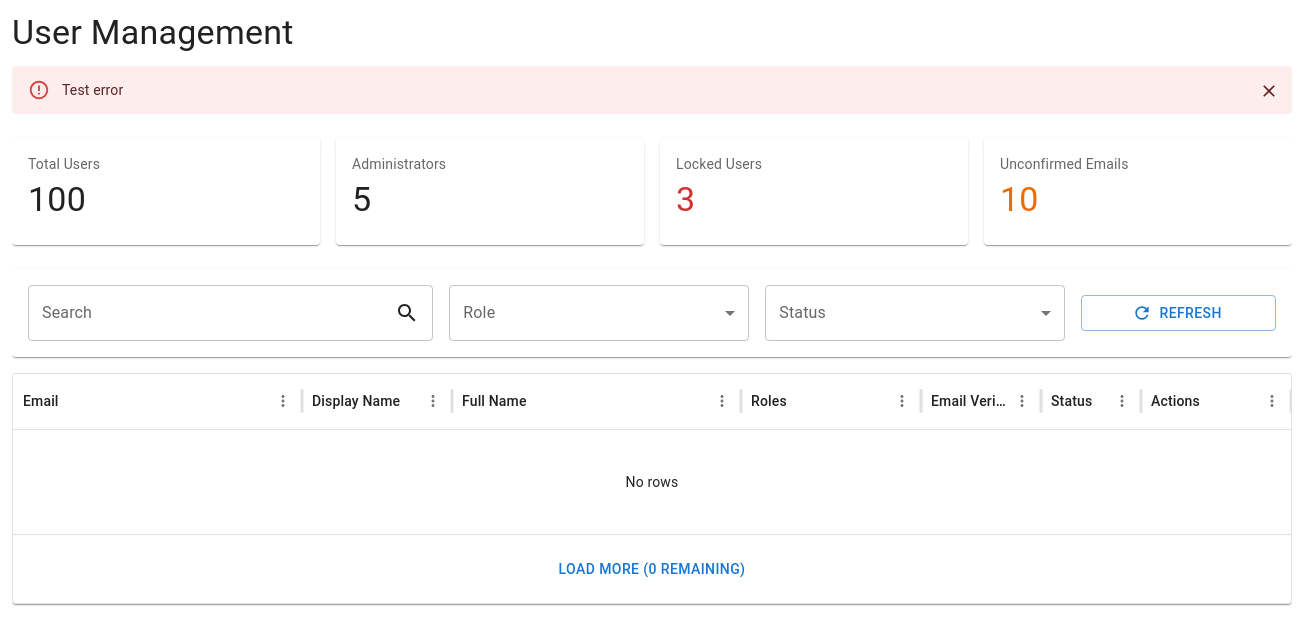
Test: UserListPage › Error Handling › should allow closing error alert
Expected: the message "Test error" is shown, [12,66,1292,114]
Click the button named "close" at (1269, 91), box [1254,76,1284,106]
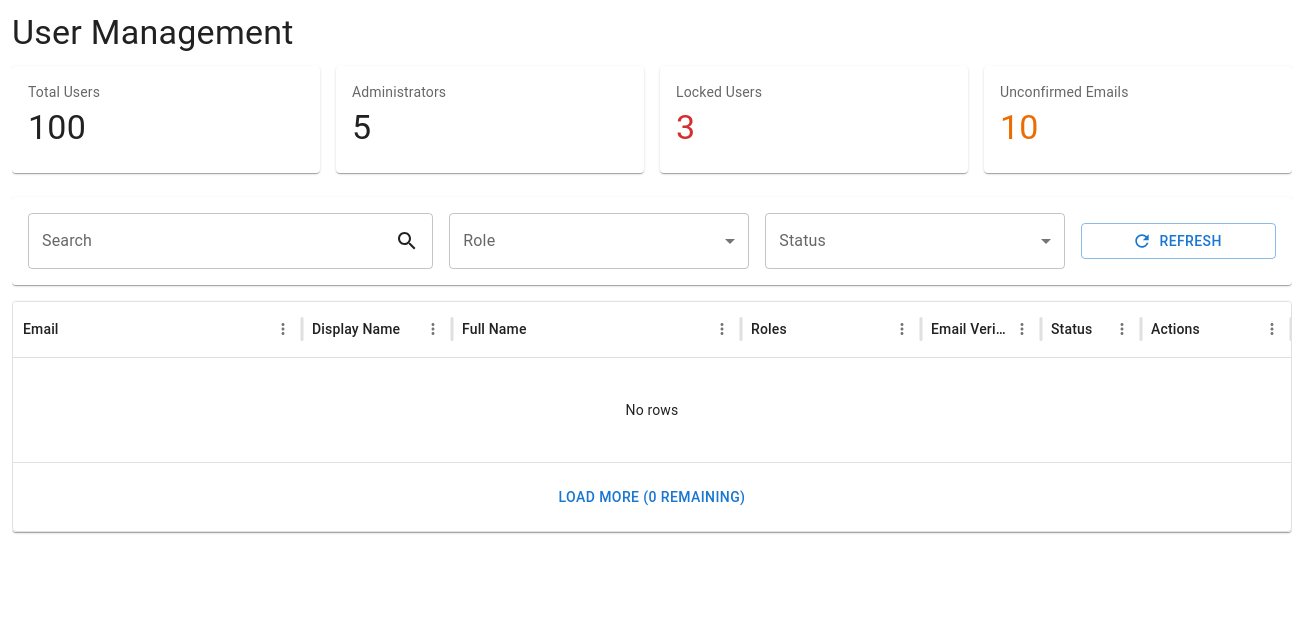
Now the message "Test error" is gone
